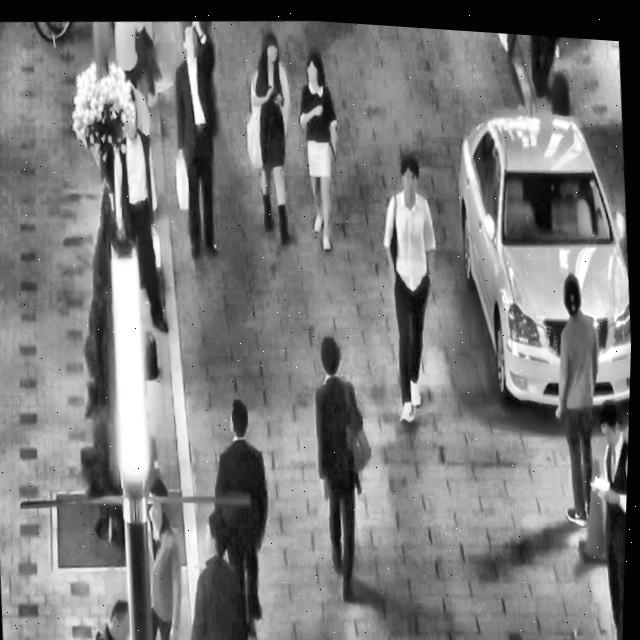light_vehicle: (441, 76, 639, 421)
